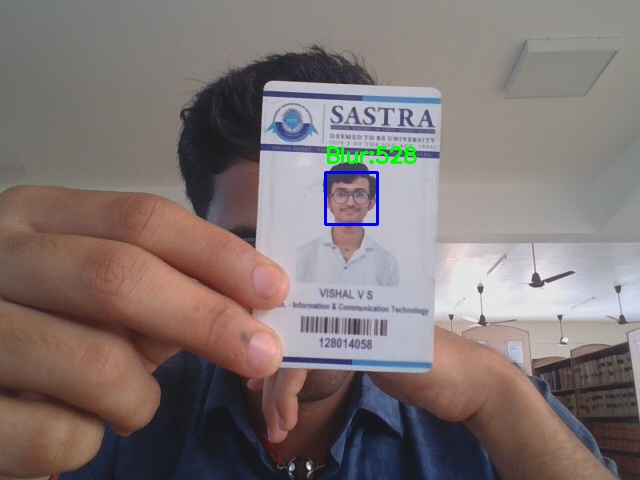fake: (325, 172, 377, 224)
